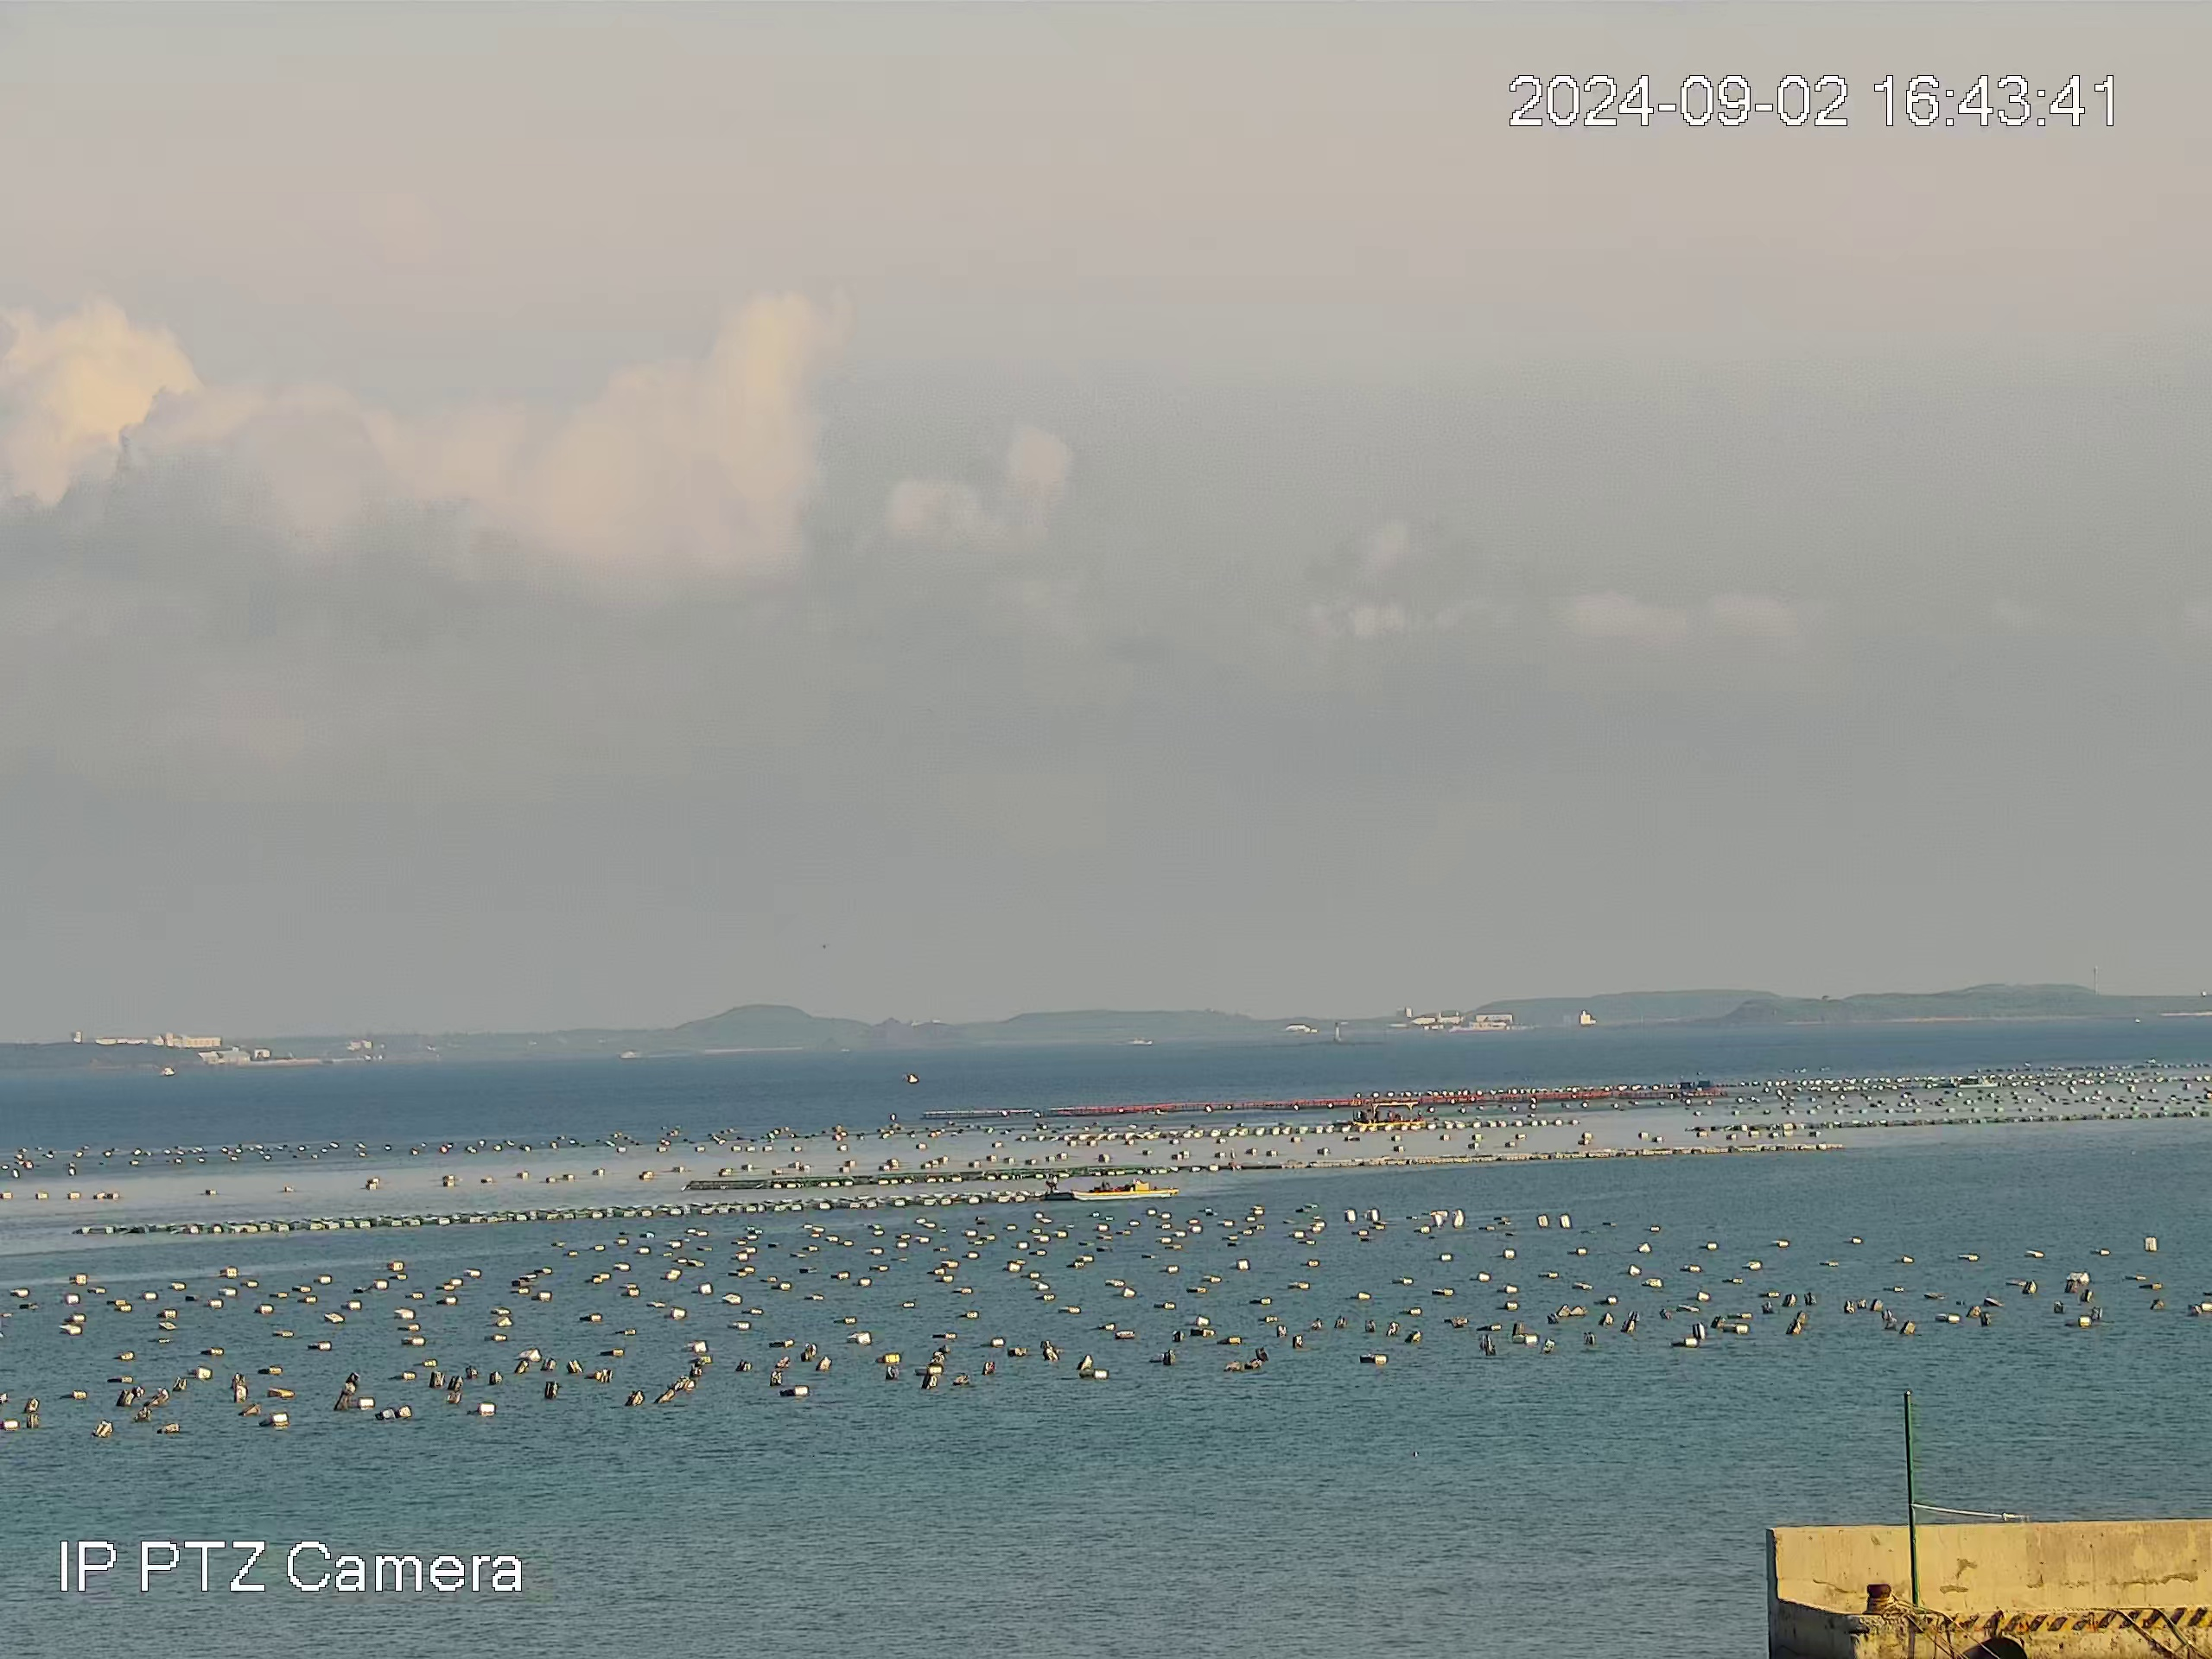boat: (1038, 1173, 1181, 1202), (1348, 1100, 1428, 1127), (1956, 1072, 2001, 1089)
